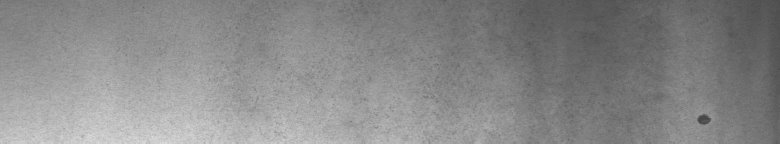fi: (692, 108, 716, 131)
